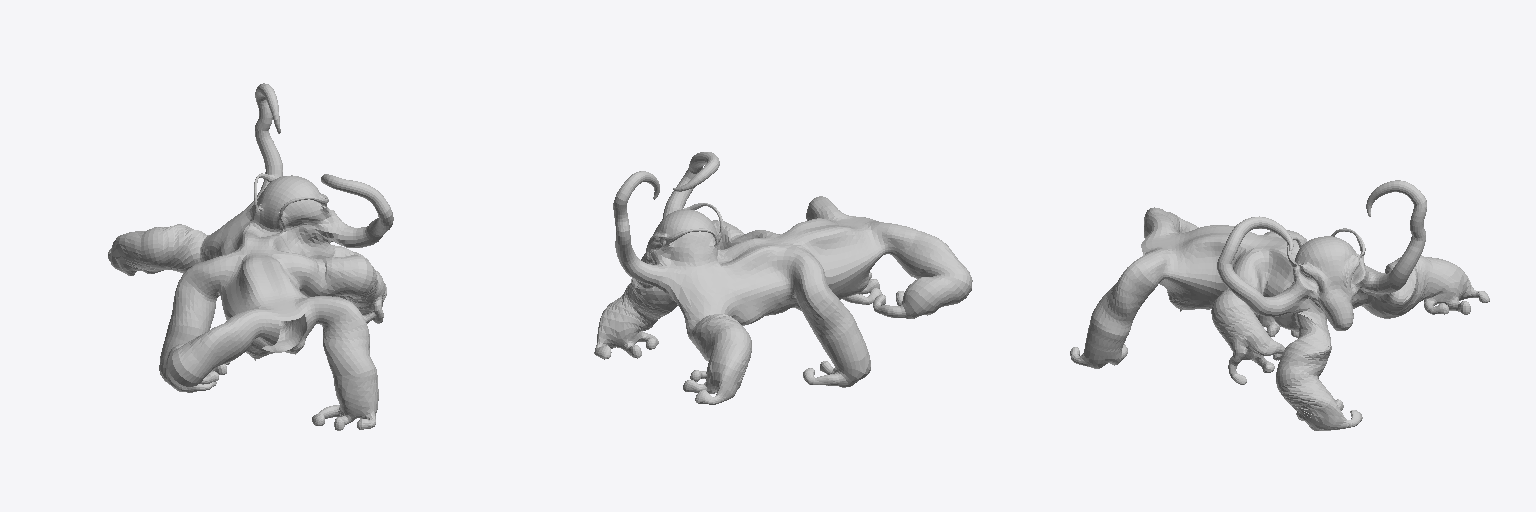
3 renders of one model, left to right at view 1: azimuth 30°, elevation 25°; view 2: azimuth 150°, elevation 25°; view 3: azimuth 270°, elevation 25°, orthographic.
Visible parts, largest first — view 1: Body; view 2: Body; view 3: Body.
Boxes of the visible parts, x1=… form: Body: x1=108, y1=83, x2=393, y2=430; Body: x1=594, y1=152, x2=972, y2=404; Body: x1=1070, y1=180, x2=1489, y2=430.
Size of the model in its own units: 2.84 by 2.06 by 3.57.